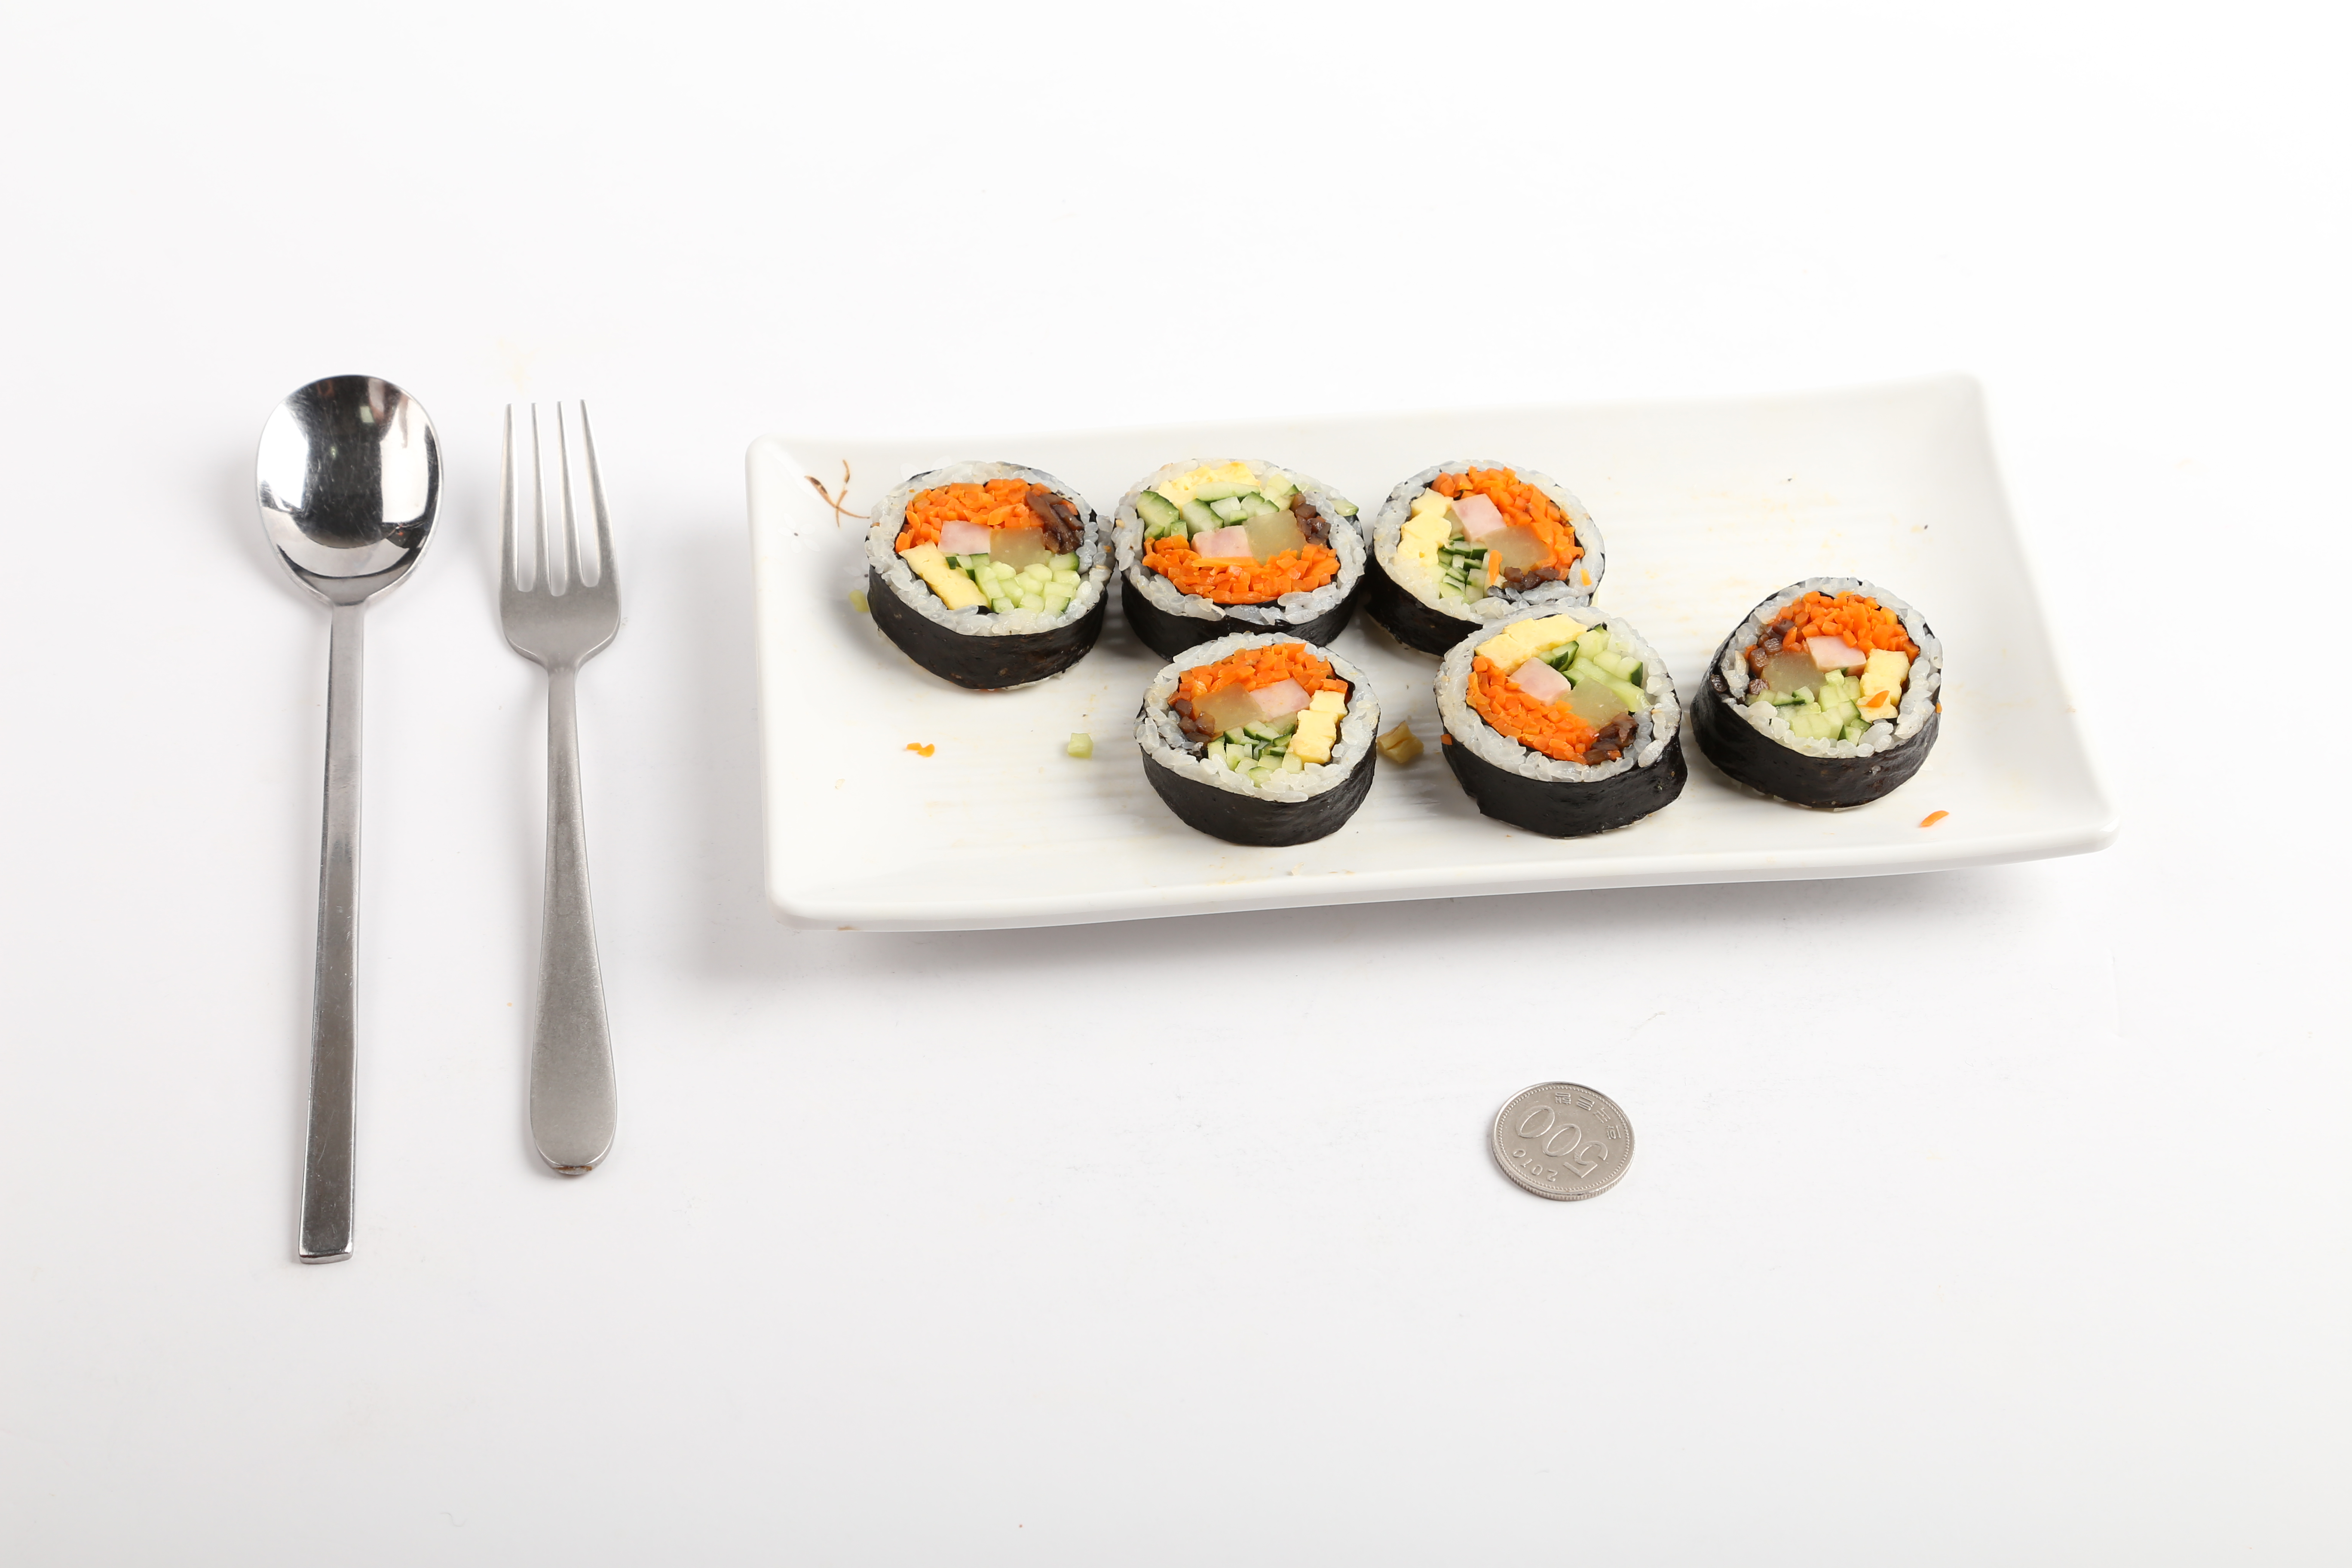dish: (740, 366, 2119, 938)
ref_coin: (1480, 1074, 1638, 1207)
ref_fork: (493, 397, 628, 716)
ref_spoon: (255, 373, 448, 691)
김밥: (859, 455, 1942, 852)
